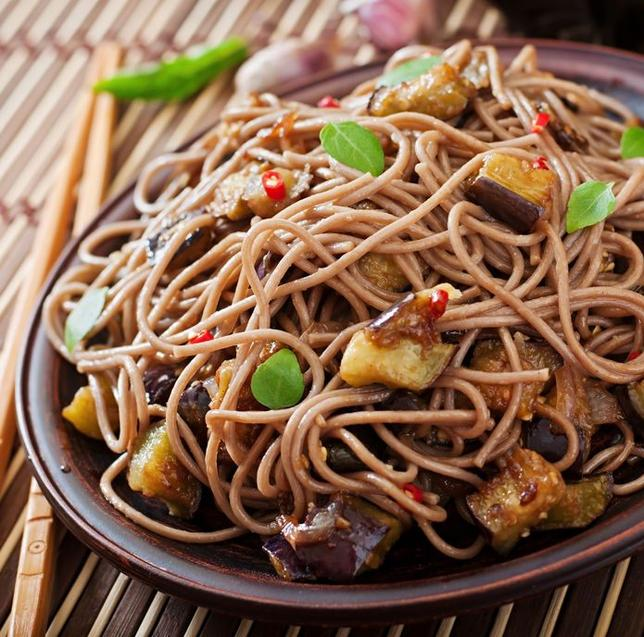Soba: (90, 49, 633, 578)
